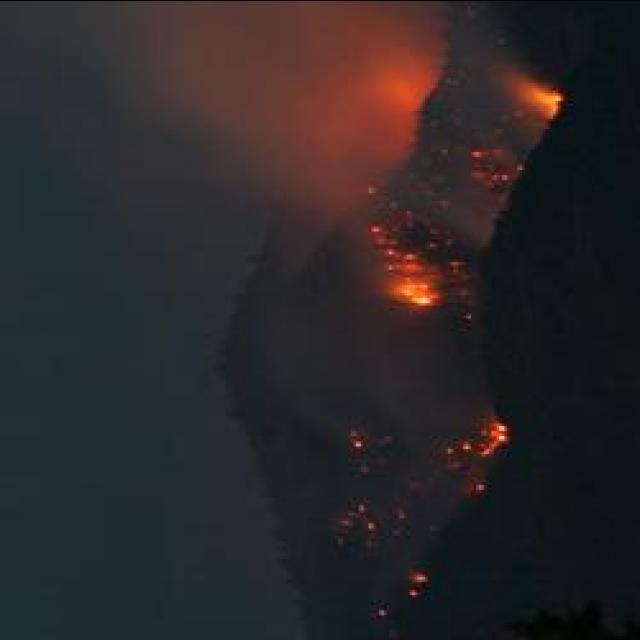fire: (404, 280, 432, 304), (532, 89, 556, 110), (489, 421, 509, 446)
smoke: (124, 38, 245, 198), (269, 17, 382, 165), (112, 230, 208, 346), (172, 464, 258, 578)
